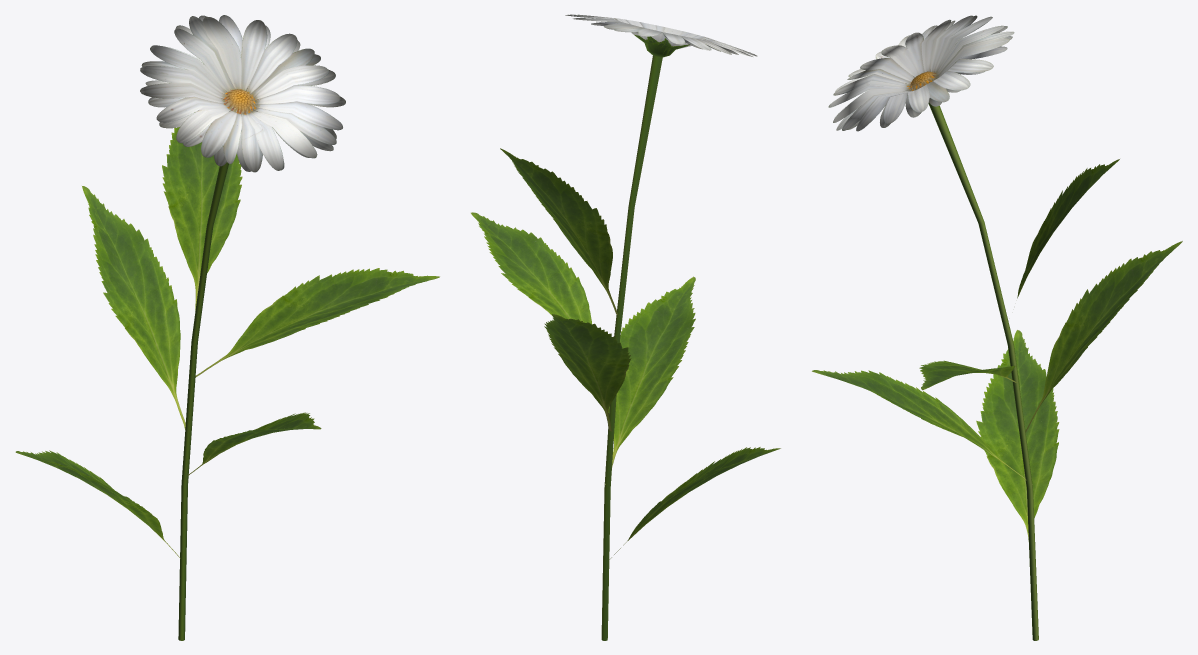
Rendered from Flower.FBX.
3 views of the same model, side by side, from view 1: azimuth 30°, elevation 25°; view 2: azimuth 150°, elevation 25°; view 3: azimuth 270°, elevation 25° (orthographic). The views are drawn at different scales.
Parts seen in each view (by area): view 1: Flower; view 2: Flower; view 3: Flower.
Part boxes in pixels (x1=…): Flower: x1=15, y1=15, x2=439, y2=640; Flower: x1=471, y1=14, x2=780, y2=640; Flower: x1=812, y1=15, x2=1182, y2=640.
Bounding box in the file's own units: 21.75 × 34.81 × 19.41.
Materials: 1 (1 with a texture image).
